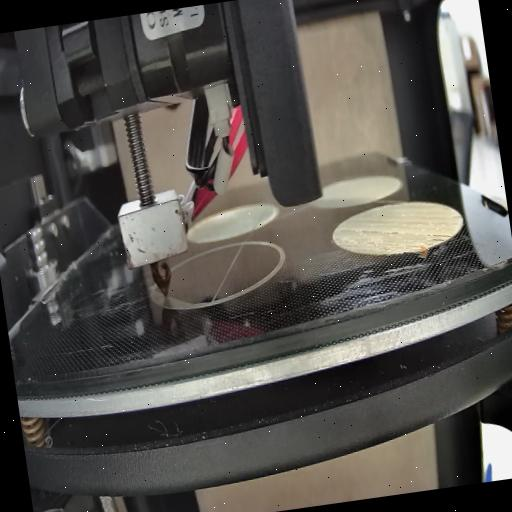under_extrusion: (340, 222, 402, 246), (422, 229, 452, 250), (404, 240, 422, 253), (452, 210, 464, 222)
